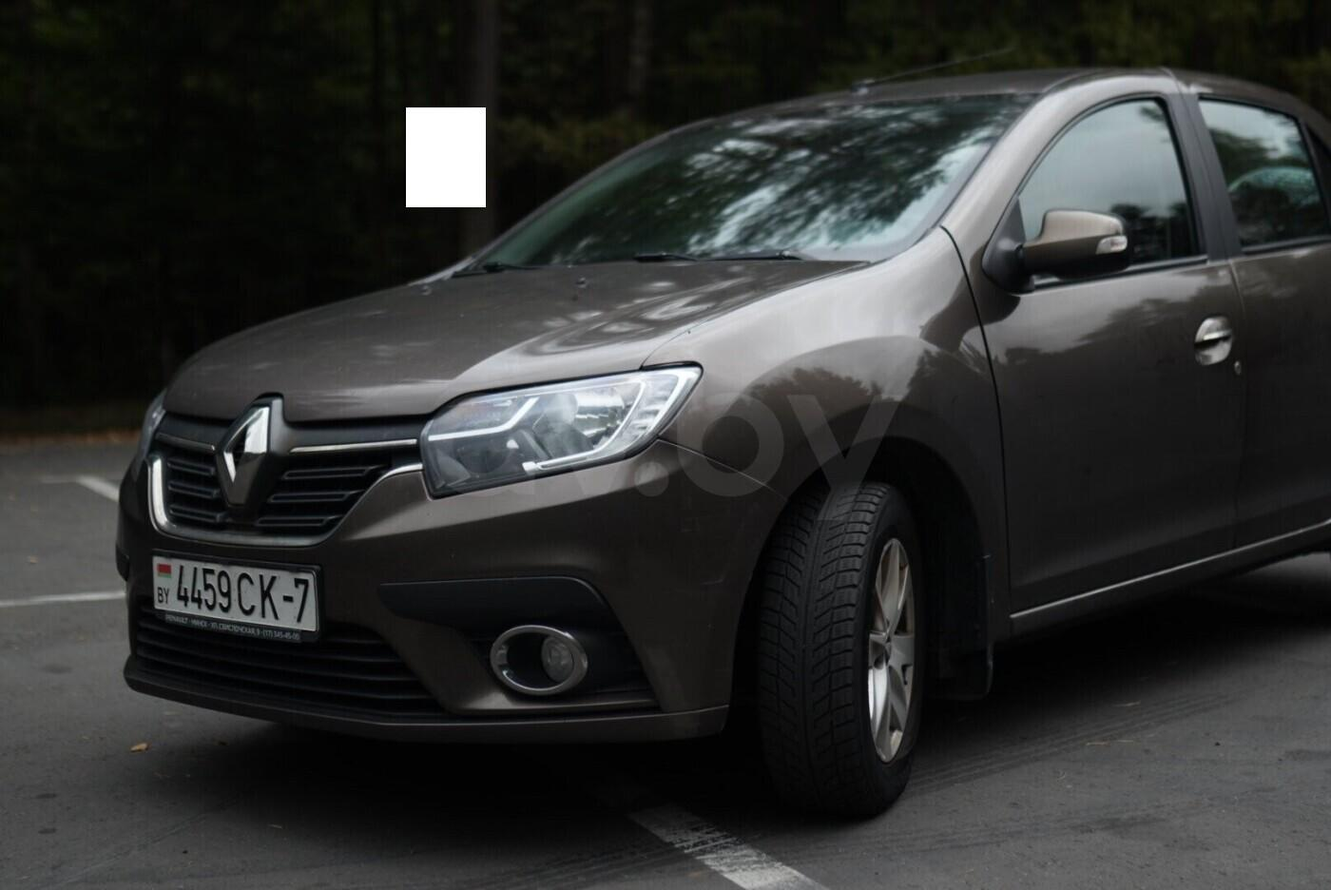Logan_2018: (105, 64, 1331, 806)
